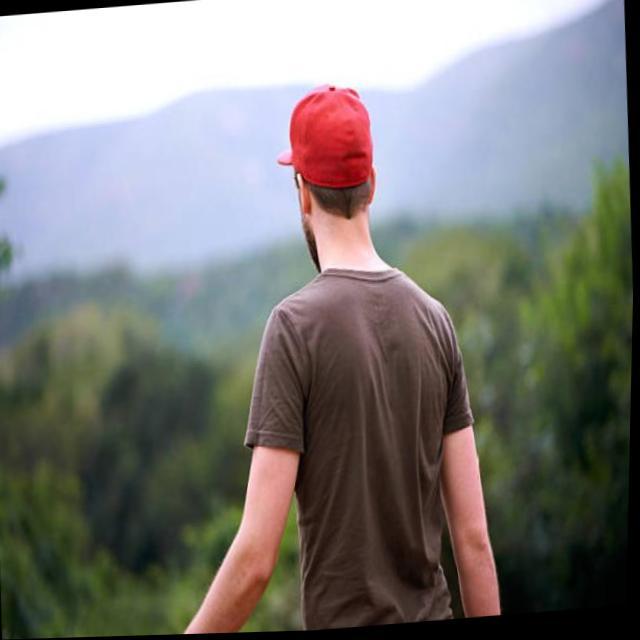no helmet: (262, 59, 415, 283)
